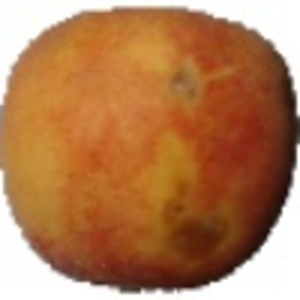pêssego: (1, 2, 300, 298)
